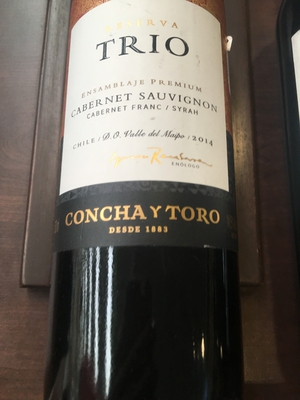trio cabernet sauvignon: (50, 3, 251, 375)
